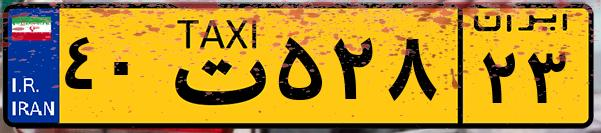0: (110, 28, 158, 98)
2: (330, 28, 385, 110), (475, 38, 525, 113)
3: (525, 38, 570, 115)
4: (57, 26, 110, 100)
5: (270, 28, 330, 110)
8: (385, 28, 445, 110)
ت: (158, 12, 270, 120)
